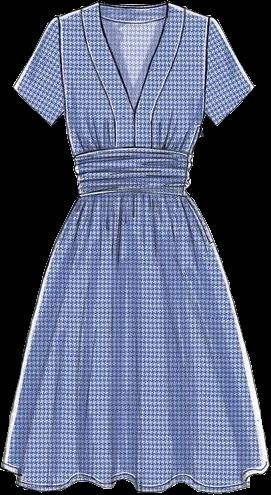Bodice: (58, 1, 209, 195)
Hemline: (0, 463, 270, 494)
Neckline: (97, 0, 173, 111), (147, 8, 189, 147), (78, 9, 117, 147), (70, 144, 193, 159), (129, 106, 136, 147)
Skirt: (1, 193, 268, 493)
Sleeve: (12, 16, 65, 125), (205, 17, 255, 125)
Sleeveline: (57, 14, 68, 114), (204, 16, 212, 114)
Waistline: (77, 188, 189, 198)
